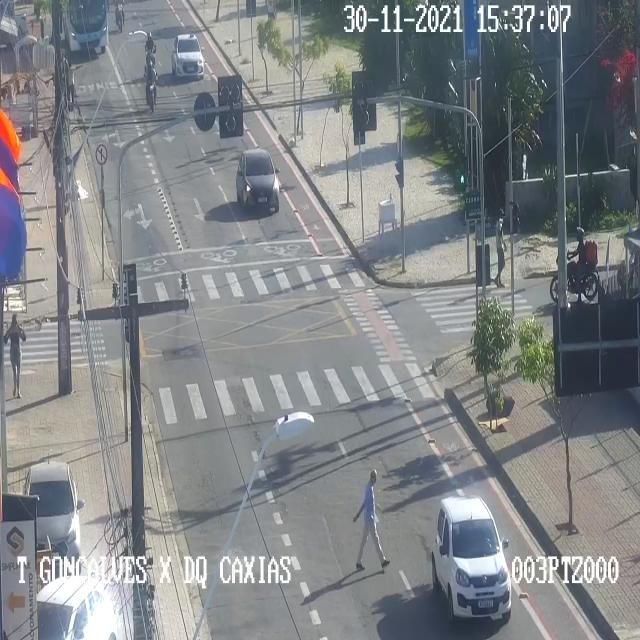Bus: (62, 1, 110, 58)
Car: (430, 495, 512, 626), (25, 461, 83, 570), (37, 576, 117, 639), (237, 147, 281, 216), (171, 33, 205, 81)
Motorcycle: (549, 225, 598, 306), (144, 53, 159, 115), (144, 34, 158, 69), (114, 1, 124, 33)
